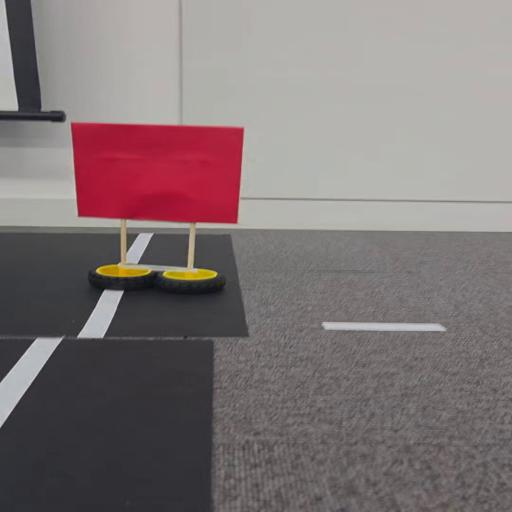Sign_A: (62, 122, 260, 299)
